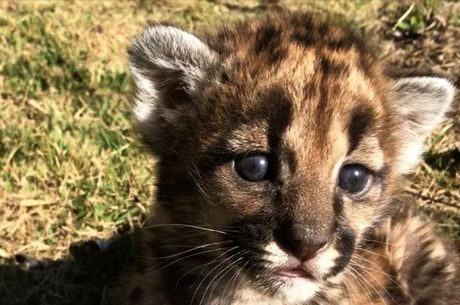OncaParda: (19, 12, 451, 298)
